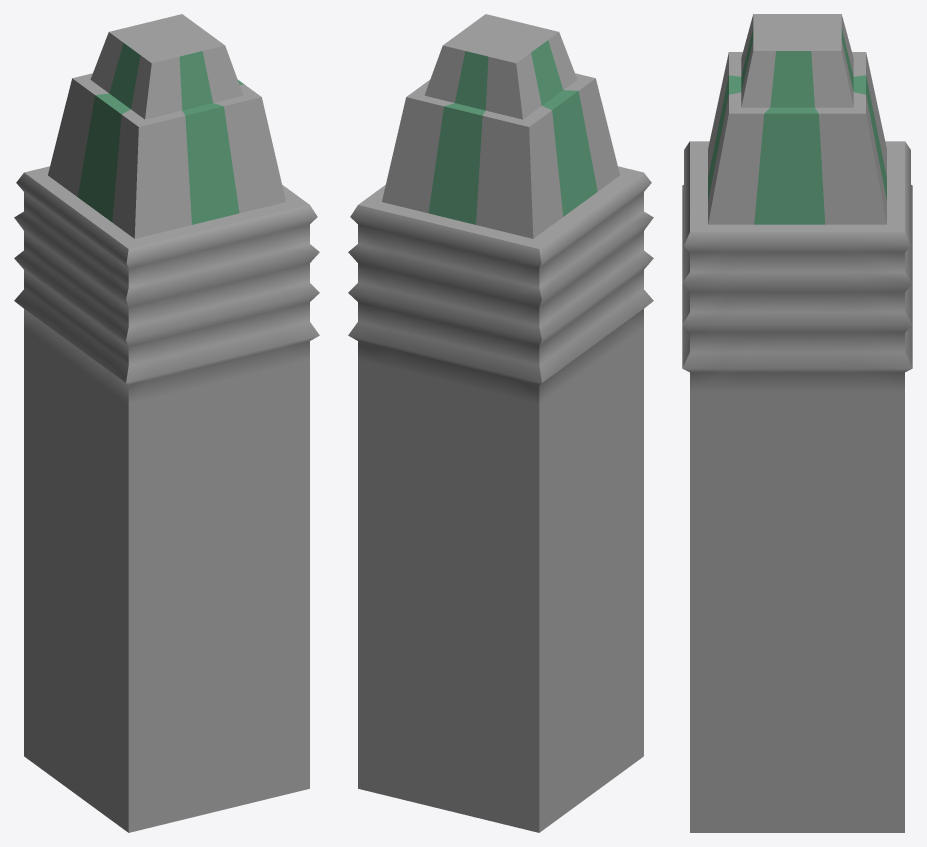
Rendered from BuildingF.fbx.
3 renders of one model, left to right at view 1: azimuth 30°, elevation 25°; view 2: azimuth 150°, elevation 25°; view 3: azimuth 270°, elevation 25°, orthographic. The views are drawn at different scales.
Parts seen in each view (by area): view 1: BuildingF; view 2: BuildingF; view 3: BuildingF.
Boxes of the visible parts, left/top/right/bottom form: BuildingF: left=14, top=14, right=319, bottom=832; BuildingF: left=348, top=14, right=653, bottom=832; BuildingF: left=682, top=14, right=912, bottom=832.
Size of the model in its own units: 12.95 by 46.83 by 12.95.
